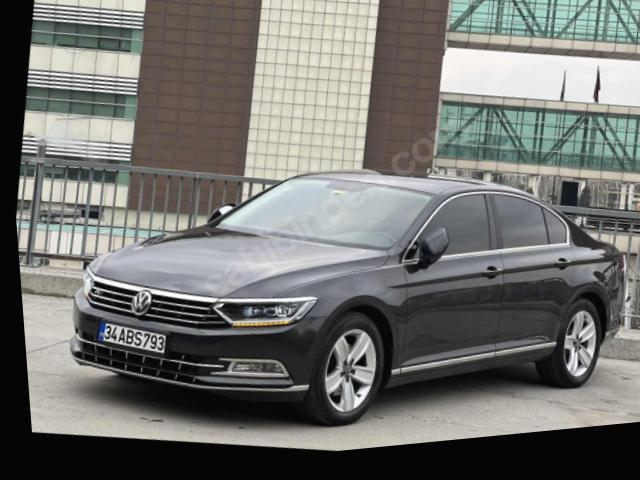plaka: (98, 322, 166, 353)
